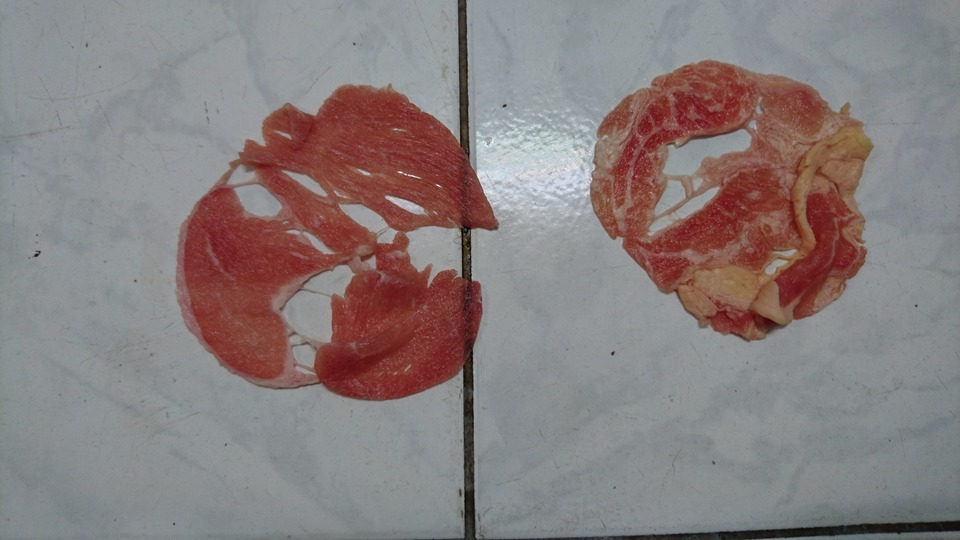restructured meat: (166, 69, 508, 396), (580, 68, 874, 339)
